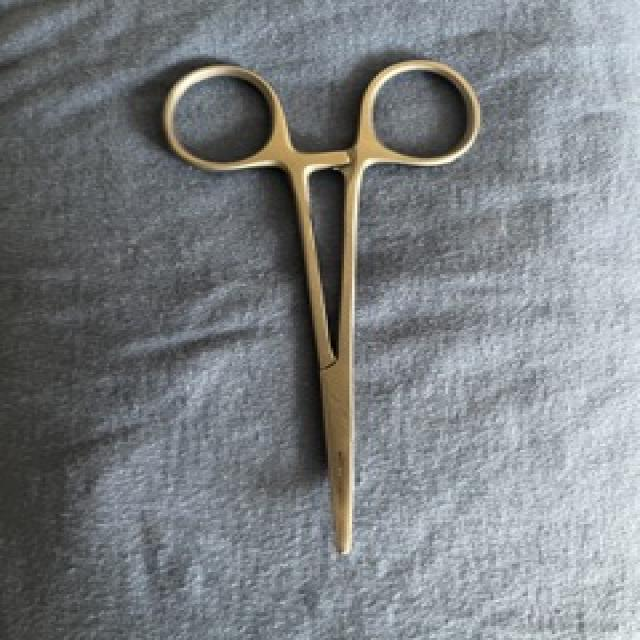Gunting: (154, 55, 488, 567)
